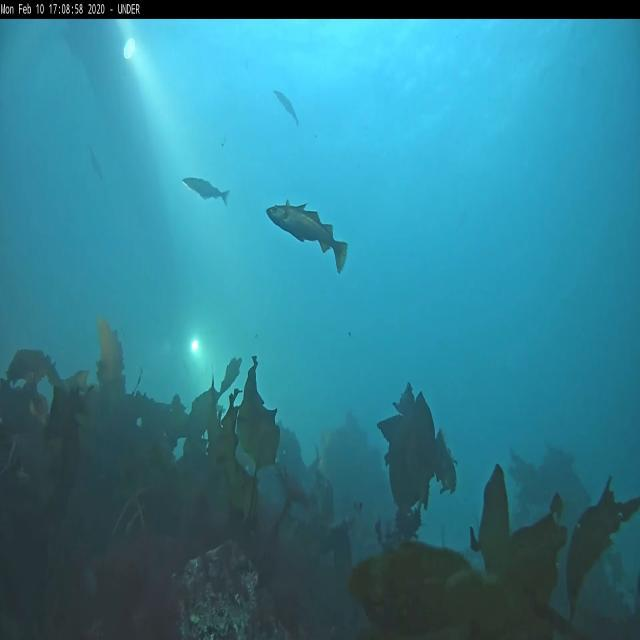fish: (266, 201, 348, 275), (183, 176, 230, 206), (274, 88, 298, 126)
